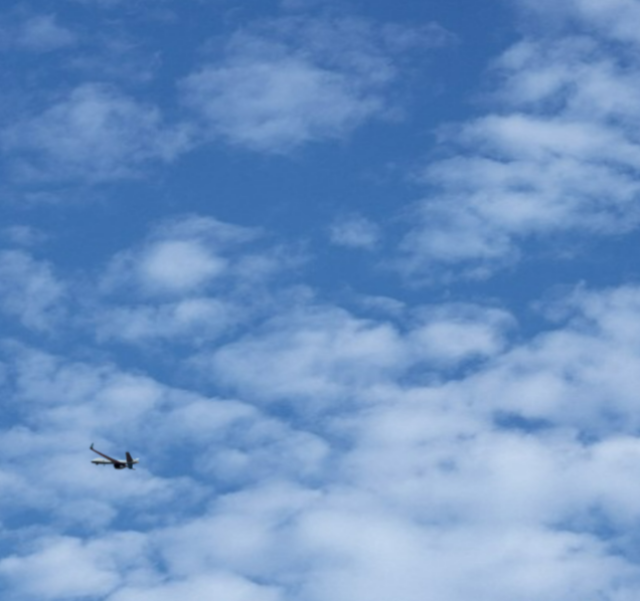military drone: (89, 442, 139, 470)
